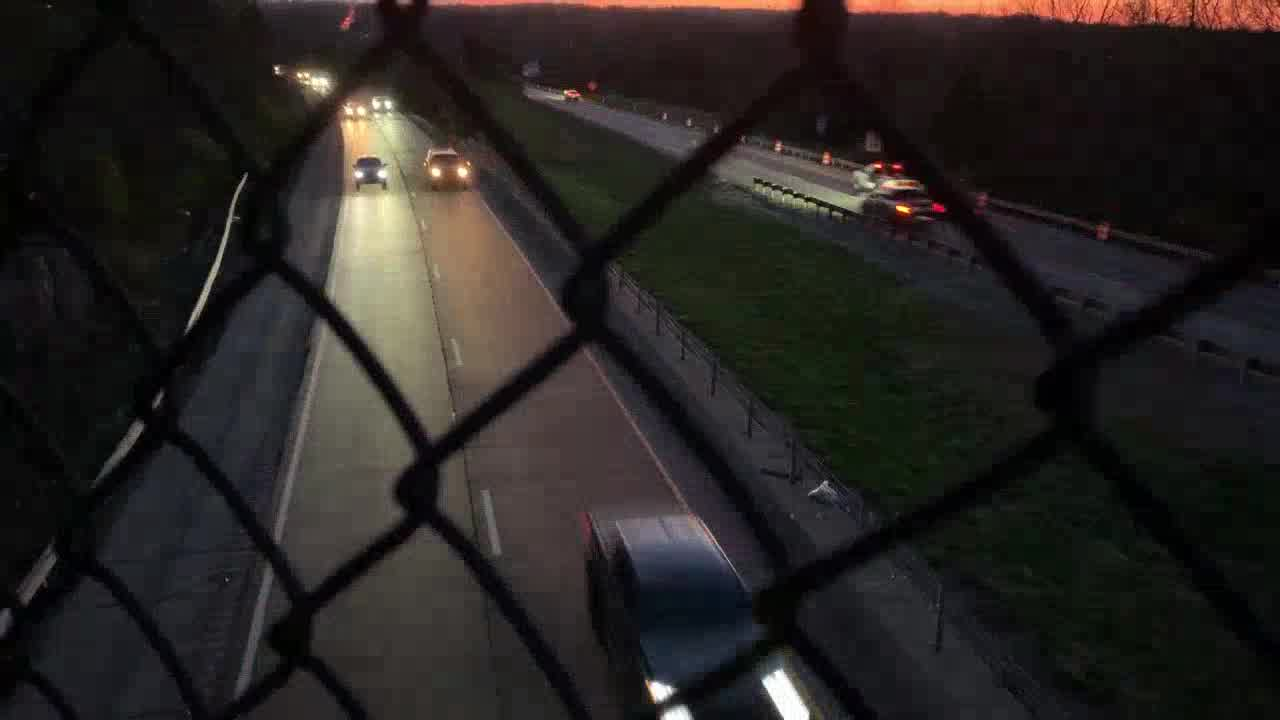largeCar: (858, 181, 944, 232), (366, 93, 398, 116)
lightTruck: (577, 503, 817, 720), (419, 142, 477, 193)
smallCar: (350, 153, 391, 191)
